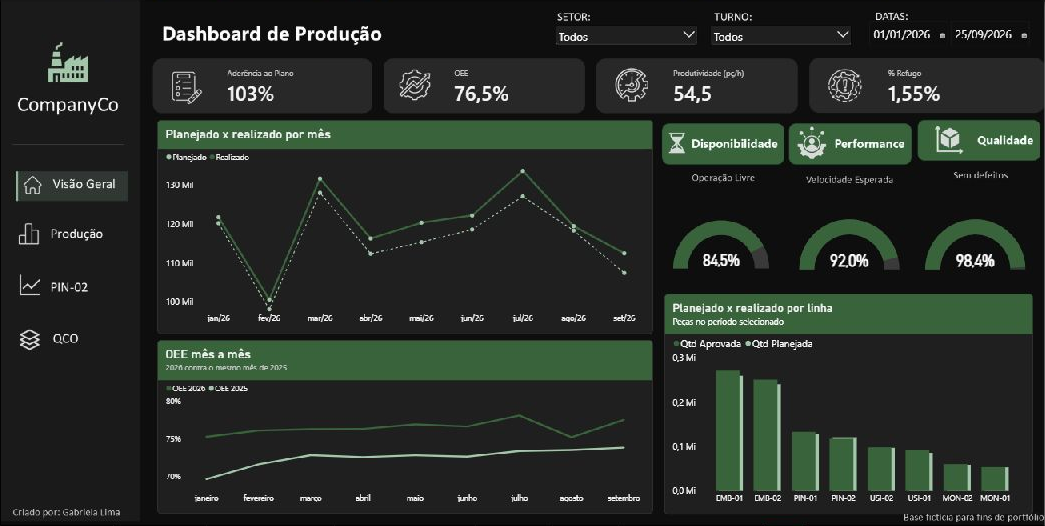

This screenshot's page, from the dashboard's own definition file:
{"tool":"powerbi","page":{"name":"Gestor","canvas":[2140,1080],"ordinal":0},"visuals":[{"type":"cardVisual","fields":{"Data":["Calendario.Aderência ao Plano"]},"box":[448.3,123.3,315,110],"z":0},{"type":"cardVisual","fields":{"Data":["Calendario.OEE"]},"box":[913.3,123.3,280,110],"z":1000},{"type":"cardVisual","fields":{"Data":["Calendario.Produtividade (pç/h)"]},"box":[1363.3,123.3,278.3,110],"z":2000},{"type":"cardVisual","fields":{"Data":["Calendario.% Refugo"]},"box":[1803.3,123.3,336.7,110],"z":3000},{"type":"lineChart","title":"Planejado x realizado por mês","fields":{"Category":["Calendario.Início do Mês"],"Y":["Calendario.Qtd Planejada","Calendario.Qtd Aprovada"]},"box":[322,246,1016,438],"z":4000},{"type":"slicer","fields":{"Values":["Turno.Turno"]},"box":[1452,48,298,50],"z":5000},{"type":"slicer","fields":{"Values":["LinhaSetor.Setor"]},"box":[1134,48,300,70],"z":6000},{"type":"gauge","fields":{"Y":["Calendario.Disponibilidade"]},"box":[1362.5,398.8,228.8,203.8],"z":7000},{"type":"gauge","fields":{"Y":["Calendario.Performance"]},"box":[1621.2,398.8,237.5,203.8],"z":8000},{"type":"gauge","fields":{"Y":["Calendario.Qualidade"]},"box":[1880,398.8,237.5,203.8],"z":9000},{"type":"slicer","fields":{"Values":["Calendario.Datas"]},"box":[1774,38,366,86],"z":10000},{"type":"lineChart","title":"OEE mês a mês","fields":{"Category":["Calendario.Nome do Mês"],"Y":["Calendario.OEE","Calendario.OEE Ano Anterior"]},"box":[322,698,1016,356],"z":11000},{"type":"clusteredColumnChart","title":"Planejado x realizado por linha","fields":{"Category":["LinhaSetor.Linha"],"Y":["Calendario.Qtd Aprovada","Calendario.Qtd Planejada"]},"box":[1362,602,756,452],"z":12000},{"type":"actionButton","box":[0,436,282,104],"z":13000},{"type":"actionButton","box":[0,540,282,104],"z":14000},{"type":"actionButton","box":[0,645,282,104],"z":14001}]}

Visuals, with their boxes on the page's 2140x1080 design canvas (x1, y1, x2, y2). These are canvas units, not pixel positions in the 1045x526 screenshot, which may show the page scaled, cropped or inside an application window:
cardVisual - Calendario.Aderência ao Plano: l=448, t=123, r=763, b=233
cardVisual - Calendario.OEE: l=913, t=123, r=1193, b=233
cardVisual - Calendario.Produtividade (pç/h): l=1363, t=123, r=1642, b=233
cardVisual - Calendario.% Refugo: l=1803, t=123, r=2140, b=233
"Planejado x realizado por mês" lineChart: l=322, t=246, r=1338, b=684
slicer - Turno.Turno: l=1452, t=48, r=1750, b=98
slicer - LinhaSetor.Setor: l=1134, t=48, r=1434, b=118
gauge - Calendario.Disponibilidade: l=1362, t=399, r=1591, b=603
gauge - Calendario.Performance: l=1621, t=399, r=1859, b=603
gauge - Calendario.Qualidade: l=1880, t=399, r=2118, b=603
slicer - Calendario.Datas: l=1774, t=38, r=2140, b=124
"OEE mês a mês" lineChart: l=322, t=698, r=1338, b=1054
"Planejado x realizado por linha" clusteredColumnChart: l=1362, t=602, r=2118, b=1054
actionButton: l=0, t=436, r=282, b=540
actionButton: l=0, t=540, r=282, b=644
actionButton: l=0, t=645, r=282, b=749
